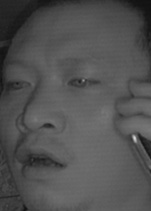eye: (66, 72, 100, 92), (5, 74, 33, 93)
mouth: (13, 142, 72, 182)
